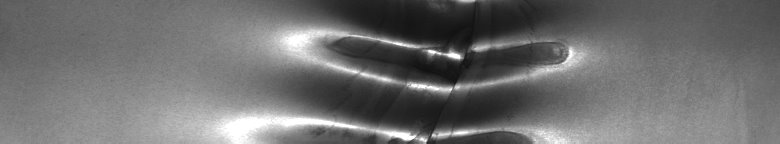ke: (244, 4, 586, 136)
